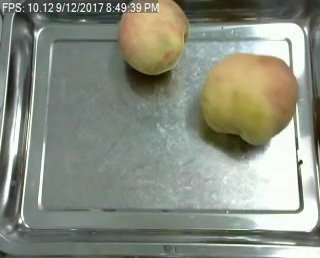Peach: (199, 52, 300, 147), (118, 3, 189, 74)
